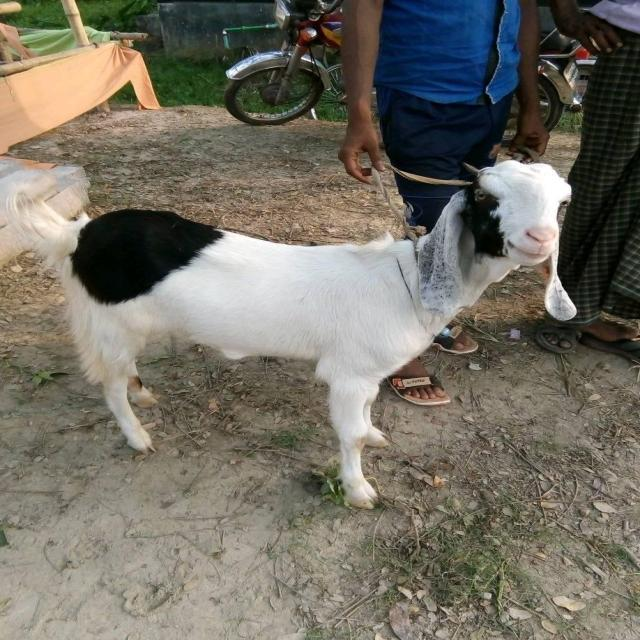Goat: (4, 153, 579, 510)
